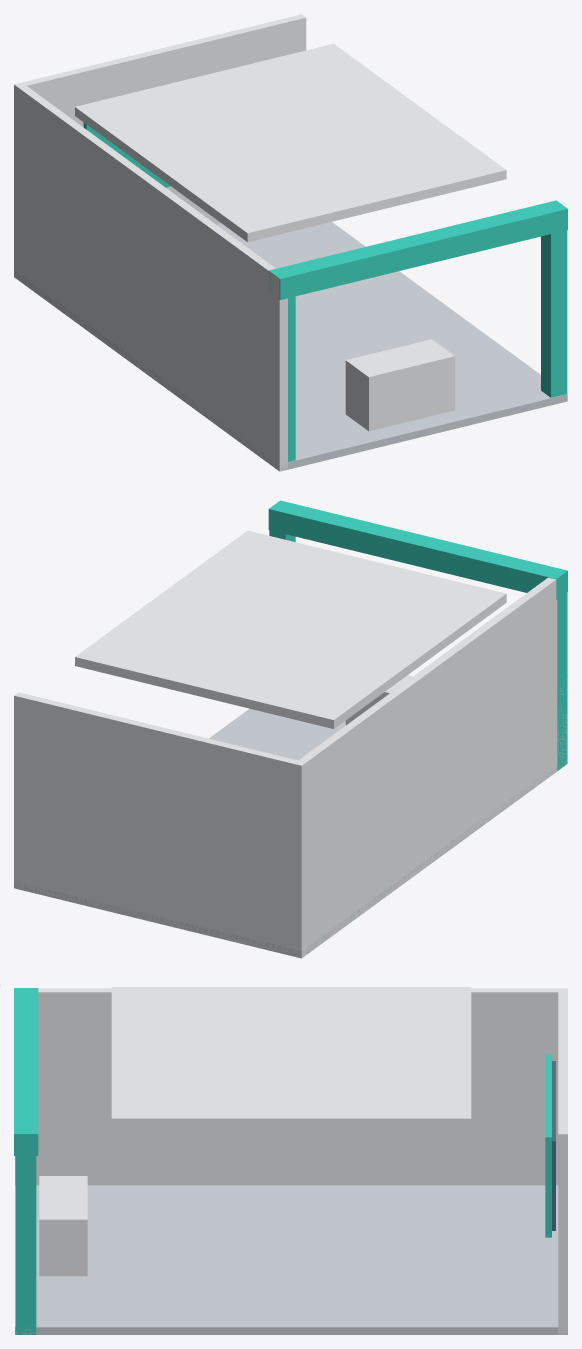
3 views of the same model, one above another, from view 1: azimuth 30°, elevation 25°; view 2: azimuth 150°, elevation 25°; view 3: azimuth 270°, elevation 25° (orthographic). The views are drawn at different scales.
Parts seen in each view (by area): view 1: Exhibition Booth Concept; view 2: Exhibition Booth Concept; view 3: Exhibition Booth Concept.
Part boxes in pixels (x1,y1,x2,y2): Exhibition Booth Concept: (14,14,567,471); Exhibition Booth Concept: (14,500,567,958); Exhibition Booth Concept: (14,987,567,1334).
Size of the model in its own units: 5 by 3.34 by 8.01.
